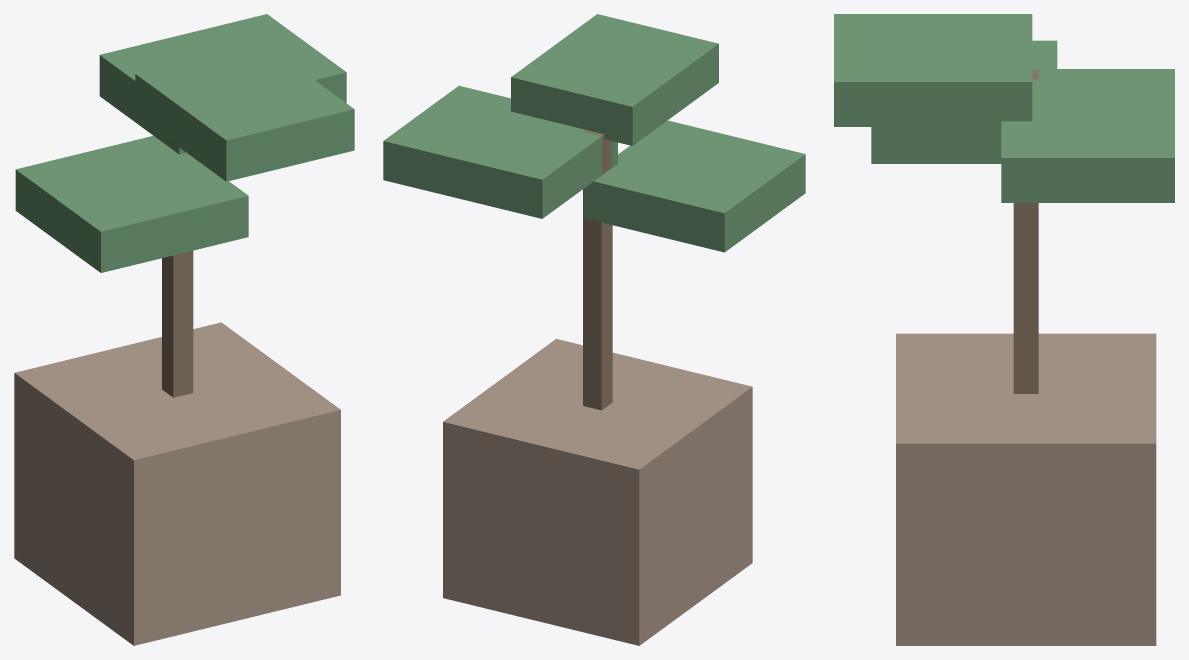
File: pottedPlant.glb
3 renders of one model, left to right at view 1: azimuth 30°, elevation 25°; view 2: azimuth 150°, elevation 25°; view 3: azimuth 270°, elevation 25°, orthographic. The views are drawn at different scales.
Bounding box in the file's own units: 0.62 × 0.99 × 0.55.
